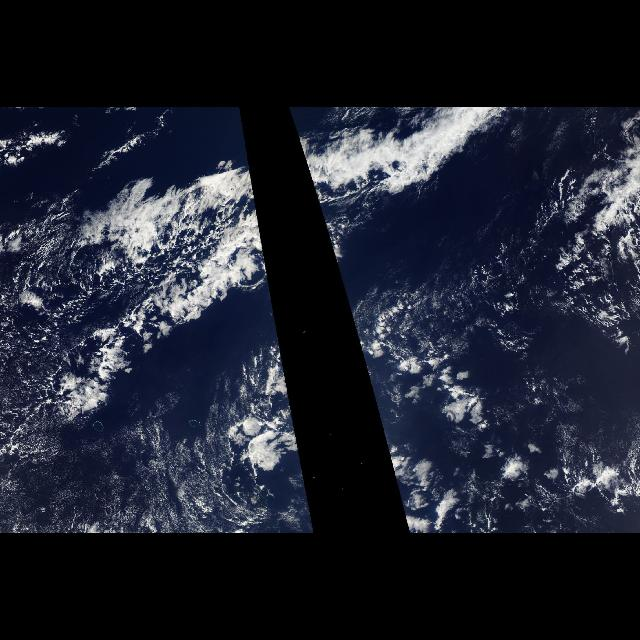Fish: (1, 109, 297, 427), (288, 109, 554, 427)
Gravel: (3, 208, 235, 346)
Sugar: (5, 399, 228, 533)
